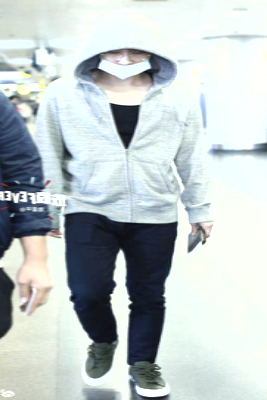mask_weared_incorrect: (97, 47, 151, 80)
